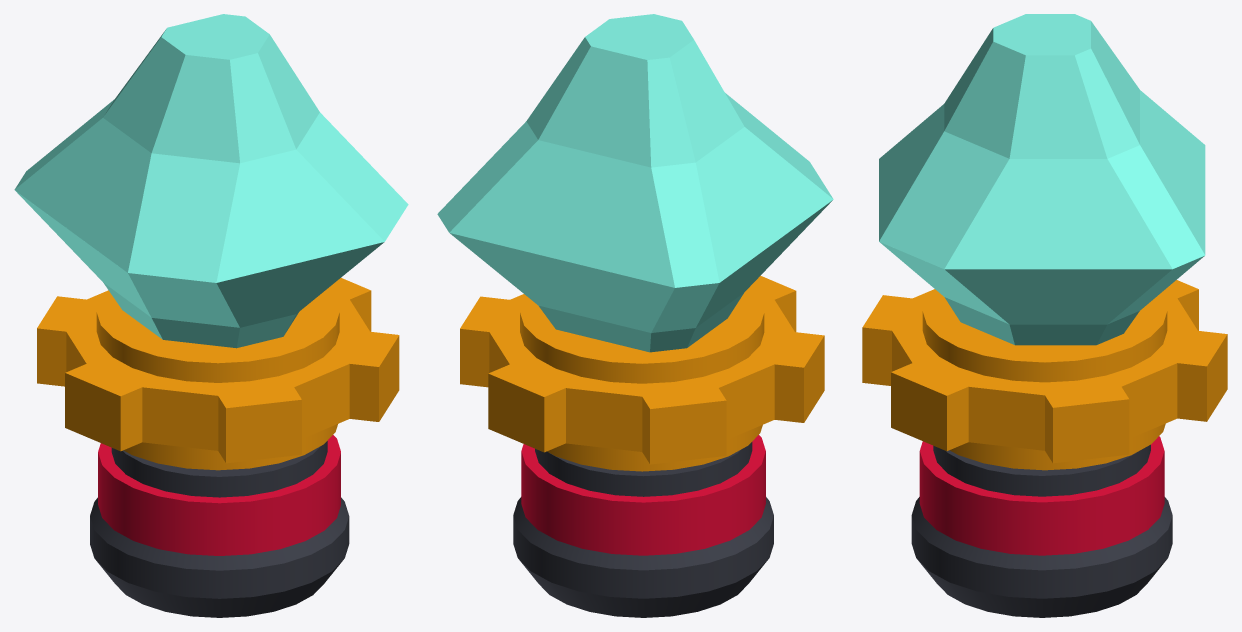
The model's file is tower_zircon.obj.
The picture shows the model from 3 angles, left to right: view 1: azimuth 30°, elevation 25°; view 2: azimuth 150°, elevation 25°; view 3: azimuth 270°, elevation 25°; orthographic projection.
Visible parts, largest first — view 1: mergedBlocks; view 2: mergedBlocks; view 3: mergedBlocks.
Part boxes in pixels (box(x1,y1,x2,y2)): mergedBlocks: box(14, 14, 408, 617); mergedBlocks: box(437, 14, 833, 617); mergedBlocks: box(862, 14, 1227, 617).
Bounding box in the file's own units: 1.34 × 2.2 × 1.34.
